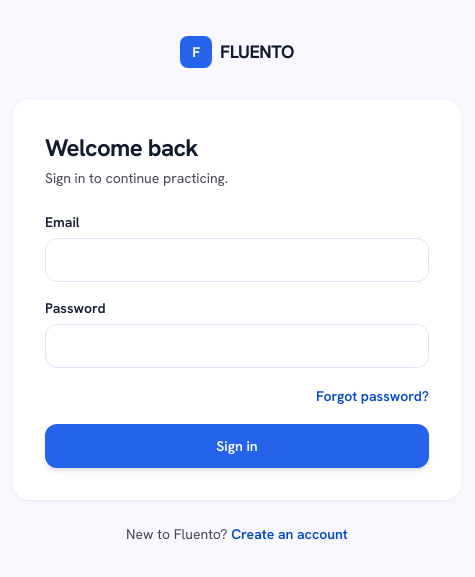
it: routing & auth guards › shows inline validation errors on the login form
Click the button "Sign in": click(237, 446) [45,424,429,468]
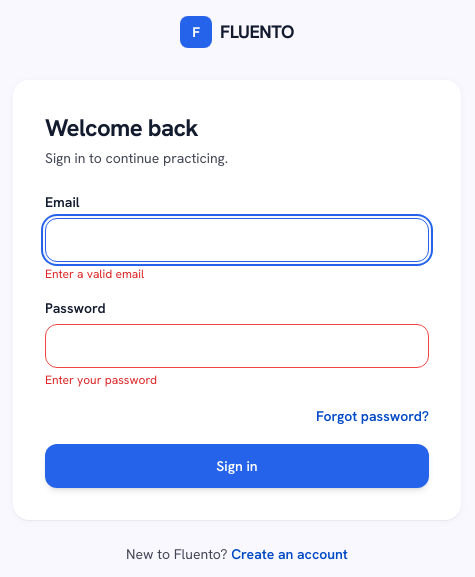
Now the text "Enter a valid email" is shown, box [45,266,144,282]
